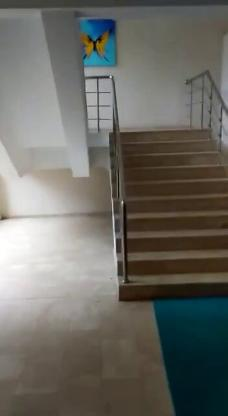stair: (105, 123, 228, 308)
